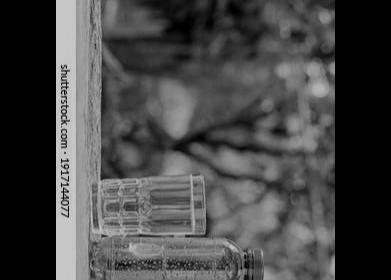bottle: (84, 228, 268, 280)
